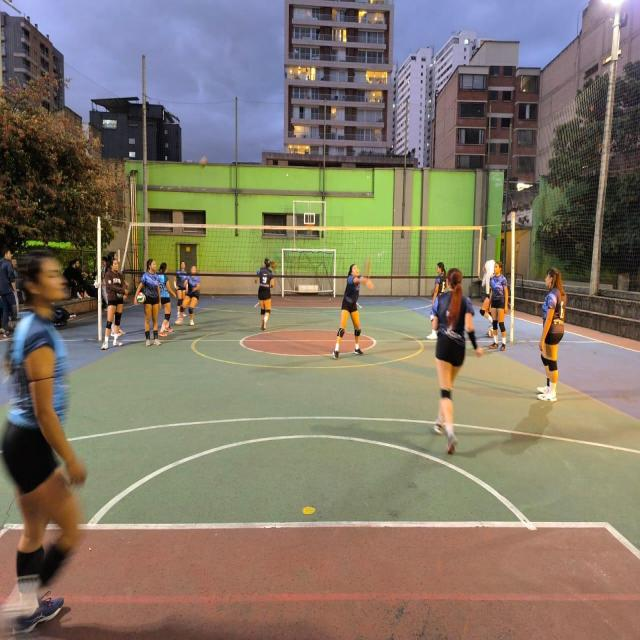volleyball: (136, 292, 146, 304), (488, 328, 494, 338)
